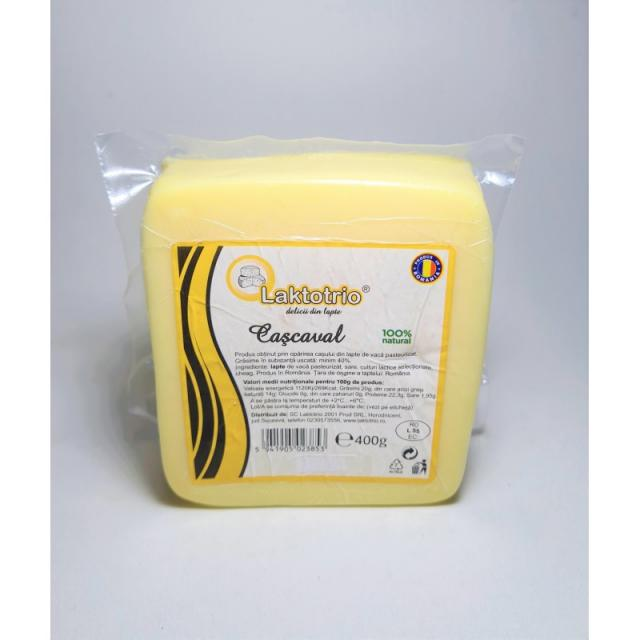cheese: (145, 154, 497, 509)
